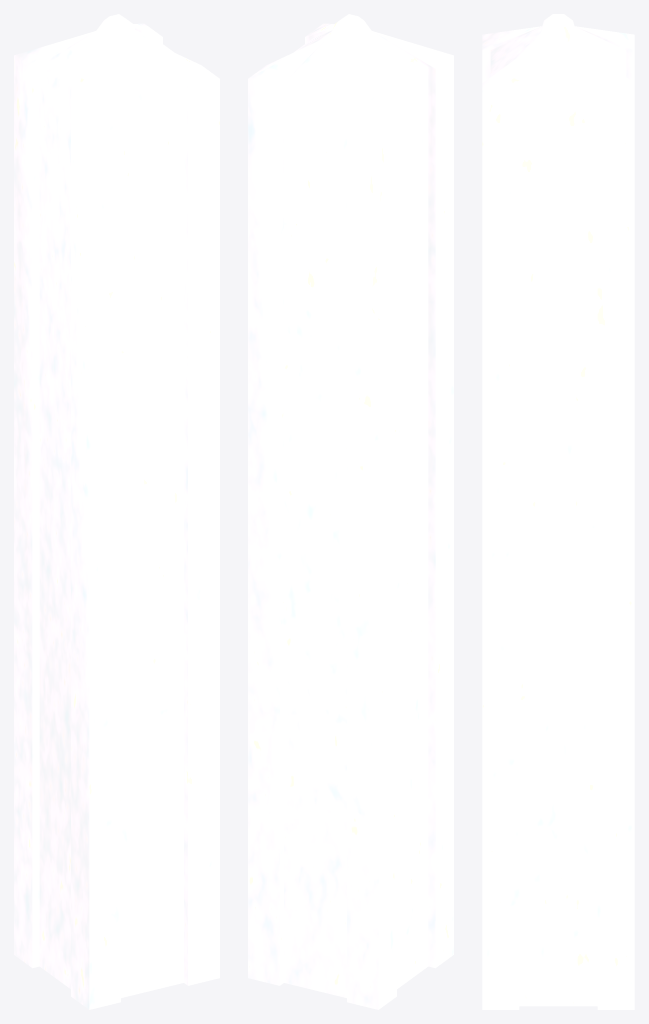
File: CA_006_iron_pillar_var10.glb
3 views of the same model, side by side, from view 1: azimuth 30°, elevation 25°; view 2: azimuth 150°, elevation 25°; view 3: azimuth 270°, elevation 25° (orthographic).
Visible parts, largest first — view 1: pillar; view 2: pillar; view 3: pillar.
Part boxes in pixels (x1,y1,x2,y2): pillar: (14, 14, 219, 1009); pillar: (248, 14, 453, 1009); pillar: (482, 14, 634, 1009).
Size of the model in its own units: 0.75 by 5.22 by 0.75.
1 material, 1 textured.
